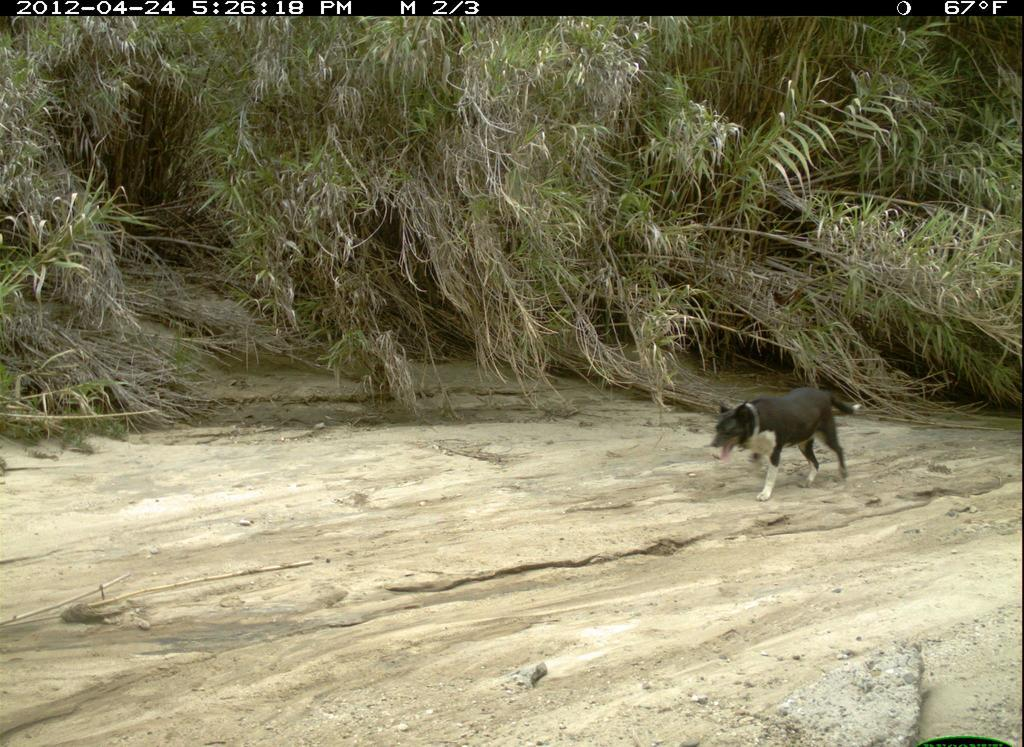dog: (706, 382, 876, 510)
